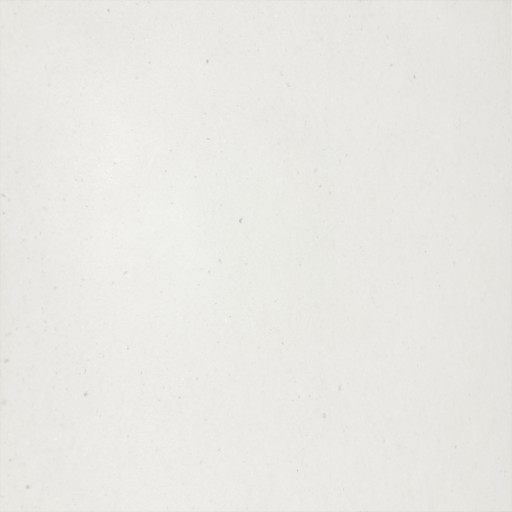lego: (218, 207, 293, 307)
